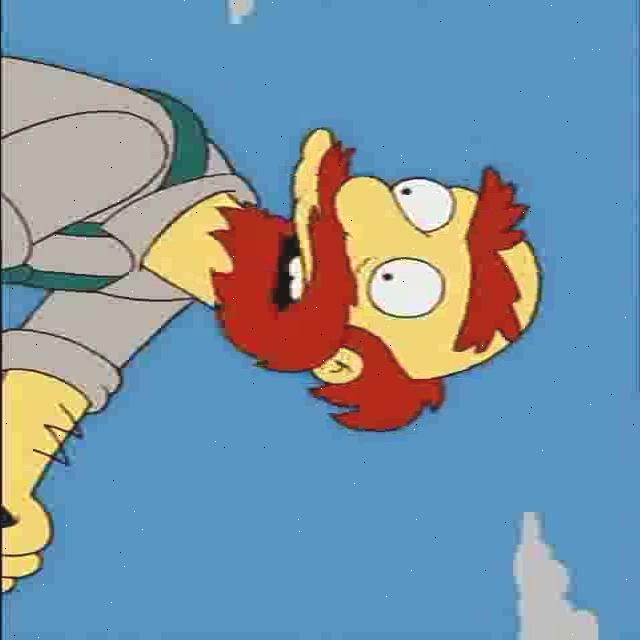Groundskeeper Willie: (182, 125, 542, 441)
